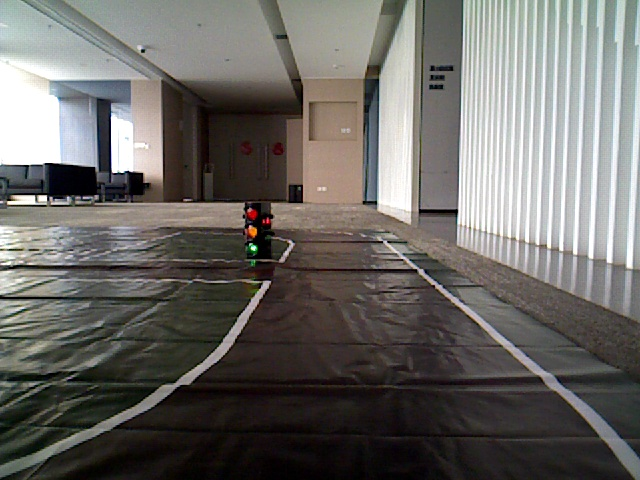green: (242, 206, 262, 249)
